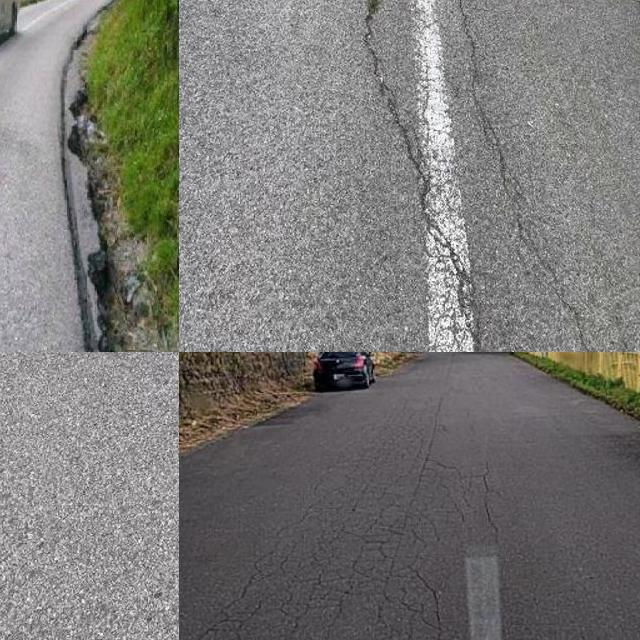Memanjang: (444, 0, 618, 352), (339, 0, 504, 352)
Pinggir: (43, 45, 155, 352)
Retak Buaya: (191, 396, 503, 640)
